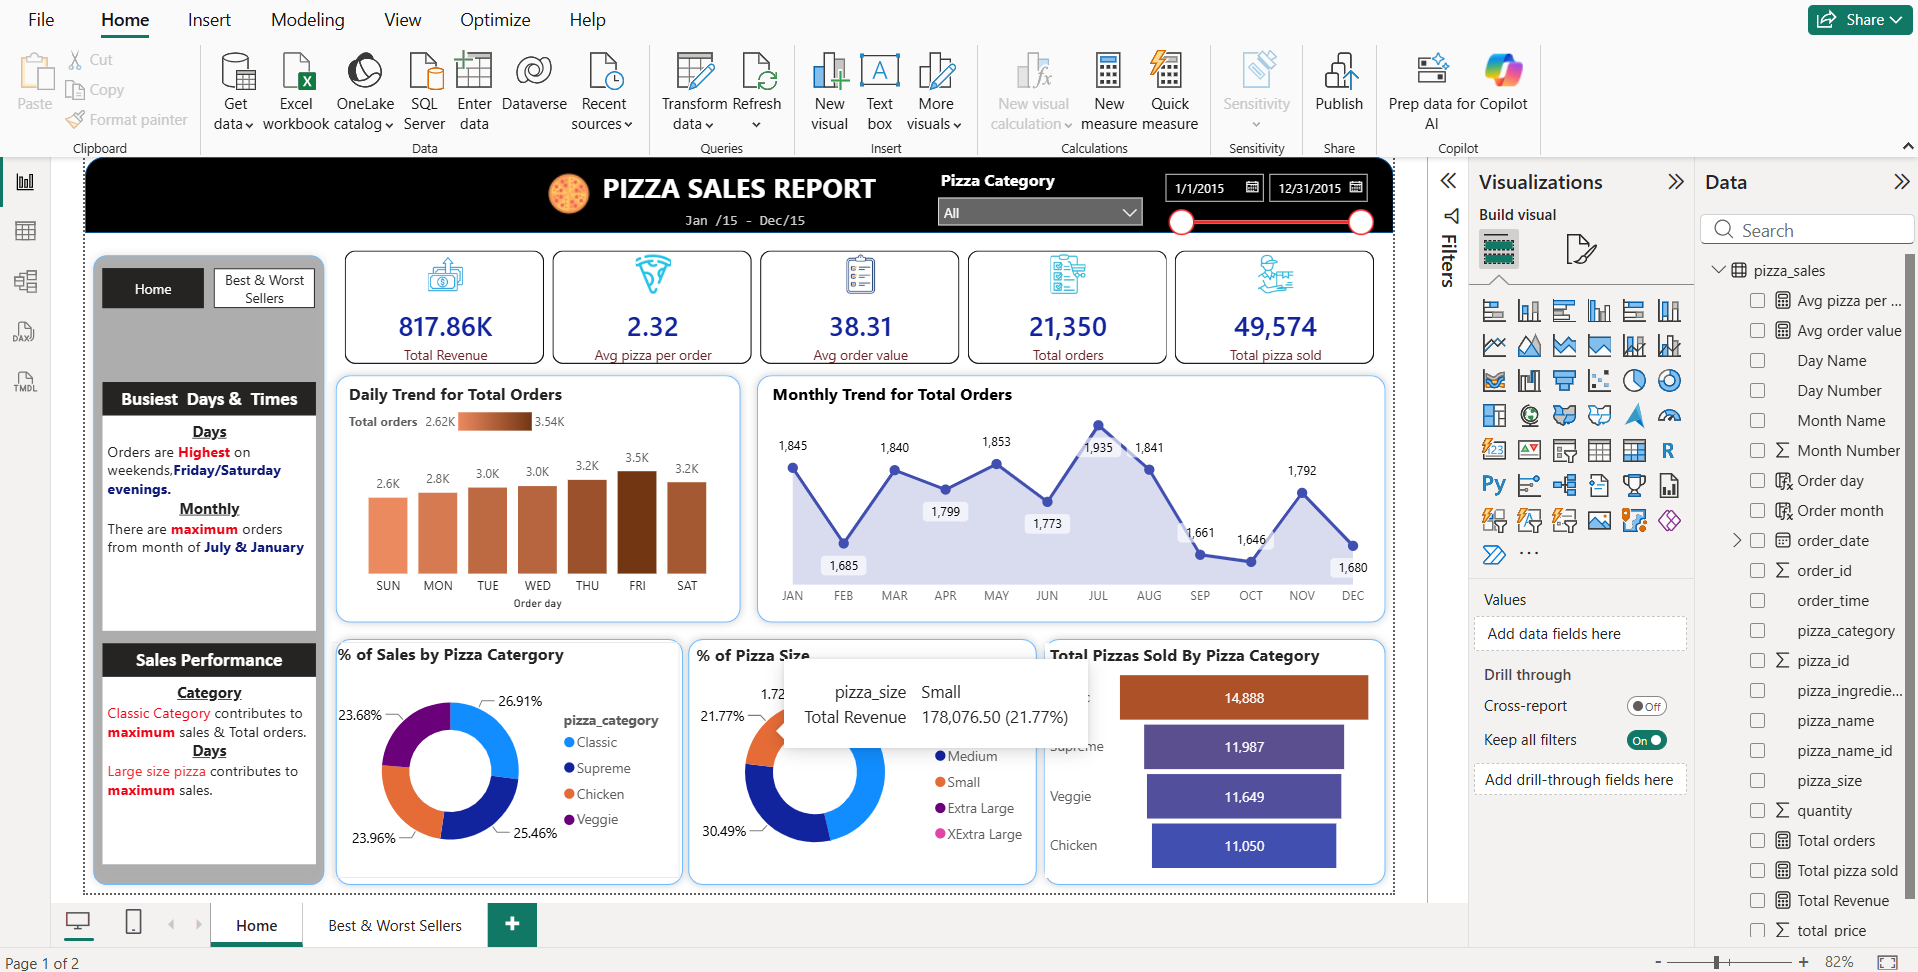

Layout of this report page (visuals, bound fields, positions):
{"tool":"powerbi","page":{"name":"Home","canvas":[1280,720],"ordinal":0},"visuals":[{"type":"shape","box":[0,88,242.1,632.2],"z":0},{"type":"cardVisual","fields":{"Data":["pizza_sales.Total Revenue","pizza_sales.Avg  pizza per order","pizza_sales.Avg order value","pizza_sales.Total orders","pizza_sales.Total pizza sales"]},"box":[237.2,74.6,1043.1,145.5],"z":1000},{"type":"shape","box":[0,0,1280.3,74.6],"z":2000},{"type":"textbox","box":[473.2,6.1,333.8,52.6],"z":3000},{"type":"textbox","box":[582.1,47.7,192,47.7],"z":4000},{"type":"image","box":[435.3,15.9,75.8,40.4],"z":5000},{"type":"shape","box":[237.2,205.4,412.1,258],"z":6000},{"type":"columnChart","title":"Daily Trend for Total Orders","fields":{"Category":["pizza_sales.Order day"],"Y":["pizza_sales.Total orders"]},"box":[253.1,220.1,380.3,227.4],"z":7000},{"type":"shape","box":[649.3,205.4,631,258],"z":8000},{"type":"areaChart","title":"Monthly Trend for Total Orders","fields":{"Category":["pizza_sales.Order month"],"Y":["pizza_sales.Total orders"]},"box":[667.7,220.1,598,227.4],"z":9000},{"type":"shape","box":[237.2,463.5,355.8,256.8],"z":10000},{"type":"shape","box":[582.1,463.5,357.1,256.8],"z":11000},{"type":"shape","box":[930.6,463.5,349.7,256.8],"z":12000},{"type":"donutChart","title":"% of Sales by Pizza Catergory","fields":{"Category":["pizza_sales.pizza_category"],"Y":["pizza_sales.Total Revenue"]},"box":[242.1,474.5,339.9,231.1],"z":13000},{"type":"donutChart","title":"% of Pizza Size","fields":{"Y":["pizza_sales.Total Revenue"],"Category":["pizza_sales.pizza_size"]},"box":[593.1,475.7,337.5,231.1],"z":14000},{"type":"funnel","title":"Total Pizzas Sold By Pizza Category","fields":{"Category":["pizza_sales.pizza_category"],"Y":["pizza_sales.Total pizza sold"]},"box":[939.1,475.7,326.5,229.9],"z":15000},{"type":"textbox","box":[17.1,220.1,209.1,33],"z":16000},{"type":"textbox","box":[17.1,253.1,209.1,210.3],"z":17000},{"type":"textbox","box":[17.1,475.7,209.1,33],"z":18000},{"type":"textbox","box":[17.1,508.7,209.1,183.4],"z":19000},{"type":"slicer","fields":{"Values":["pizza_sales.pizza_category"]},"box":[824.2,6.1,220.1,68.5],"z":20000},{"type":"slicer","fields":{"Values":["pizza_sales.order_date"]},"box":[1044.3,6.1,225,81.9],"z":21000},{"type":"pageNavigator","box":[17.6,108.3,209.8,39.2],"z":22000}]}

Visuals, with their boxes on the page's 1280x720 design canvas (x1, y1, x2, y2). These are canvas units, not pixel positions in the 1918x972 screenshot, which may show the page scaled, cropped or inside an application window:
shape: crop(0, 88, 242, 720)
cardVisual - pizza_sales.Total Revenue x pizza_sales.Avg  pizza per order: crop(237, 75, 1280, 220)
shape: crop(0, 0, 1280, 75)
textbox: crop(473, 6, 807, 59)
textbox: crop(582, 48, 774, 95)
image: crop(435, 16, 511, 56)
shape: crop(237, 205, 649, 463)
"Daily Trend for Total Orders" columnChart: crop(253, 220, 633, 448)
shape: crop(649, 205, 1280, 463)
"Monthly Trend for Total Orders" areaChart: crop(668, 220, 1266, 448)
shape: crop(237, 464, 593, 720)
shape: crop(582, 464, 939, 720)
shape: crop(931, 464, 1280, 720)
"% of Sales by Pizza Catergory" donutChart: crop(242, 474, 582, 706)
"% of Pizza Size" donutChart: crop(593, 476, 931, 707)
"Total Pizzas Sold By Pizza Category" funnel: crop(939, 476, 1266, 706)
textbox: crop(17, 220, 226, 253)
textbox: crop(17, 253, 226, 463)
textbox: crop(17, 476, 226, 509)
textbox: crop(17, 509, 226, 692)
slicer - pizza_sales.pizza_category: crop(824, 6, 1044, 75)
slicer - pizza_sales.order_date: crop(1044, 6, 1269, 88)
pageNavigator: crop(18, 108, 227, 148)
